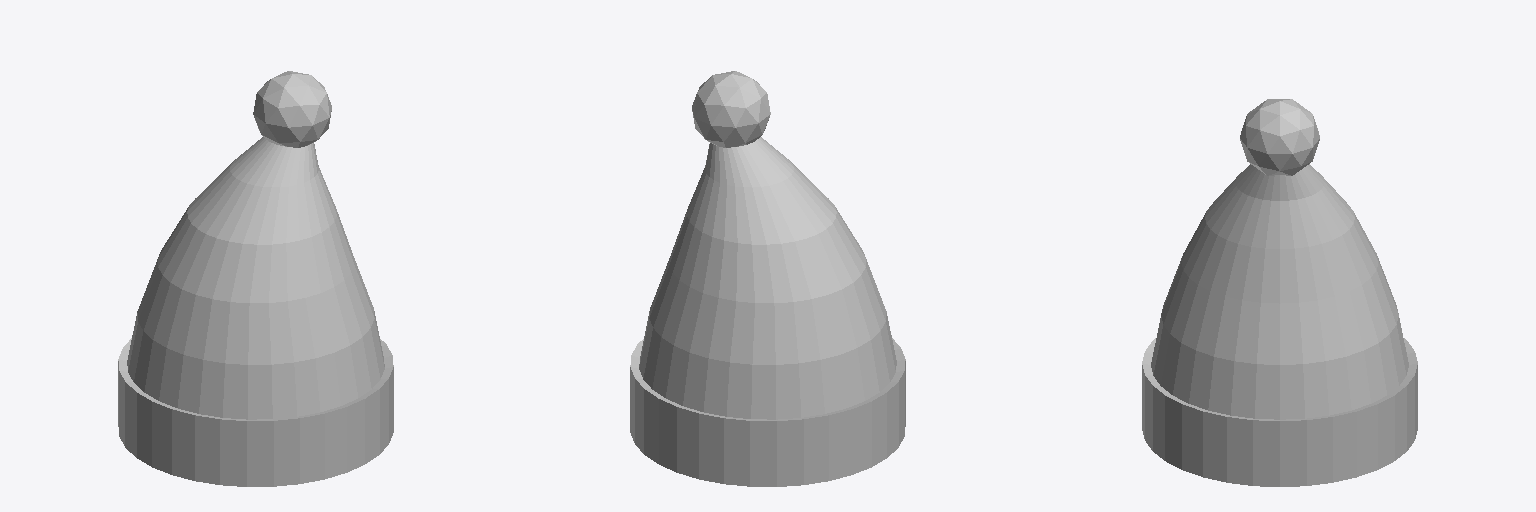
File: ChristmasHat.obj
The picture shows the model from 3 angles: view 1: azimuth 30°, elevation 25°; view 2: azimuth 150°, elevation 25°; view 3: azimuth 270°, elevation 25°; orthographic projection.
Parts seen in each view (by area): view 1: Cylinder_Material.002, Cylinder_Material.001; view 2: Cylinder_Material.002, Cylinder_Material.001; view 3: Cylinder_Material.002, Cylinder_Material.001.
Part boxes in pixels (x1,y1,x2,y2): Cylinder_Material.002: (127, 137, 384, 419); Cylinder_Material.001: (118, 71, 393, 486); Cylinder_Material.002: (639, 137, 896, 419); Cylinder_Material.001: (630, 71, 905, 486); Cylinder_Material.002: (1151, 164, 1408, 419); Cylinder_Material.001: (1142, 99, 1417, 486).
Bounding box in the file's own units: 2.14 × 2.96 × 2.14.